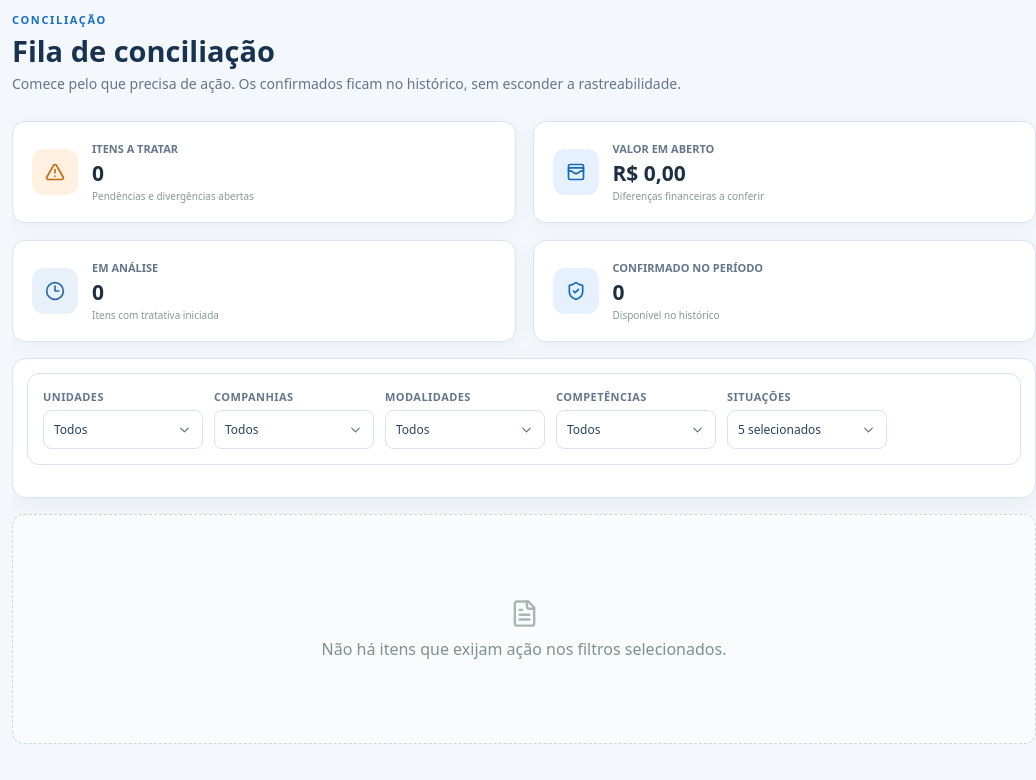
Test: reconciliation queue navigation › exposes detailed financial situations and loads the operational default set
Check: the heading "Fila de conciliação" is shown, box [12,31,275,70]
What coordinates should you click on to do the following:
click the button "5 selecionados"
I would click on:
 (807, 430)
Its box is [727,410,887,449].
(page scrolled)
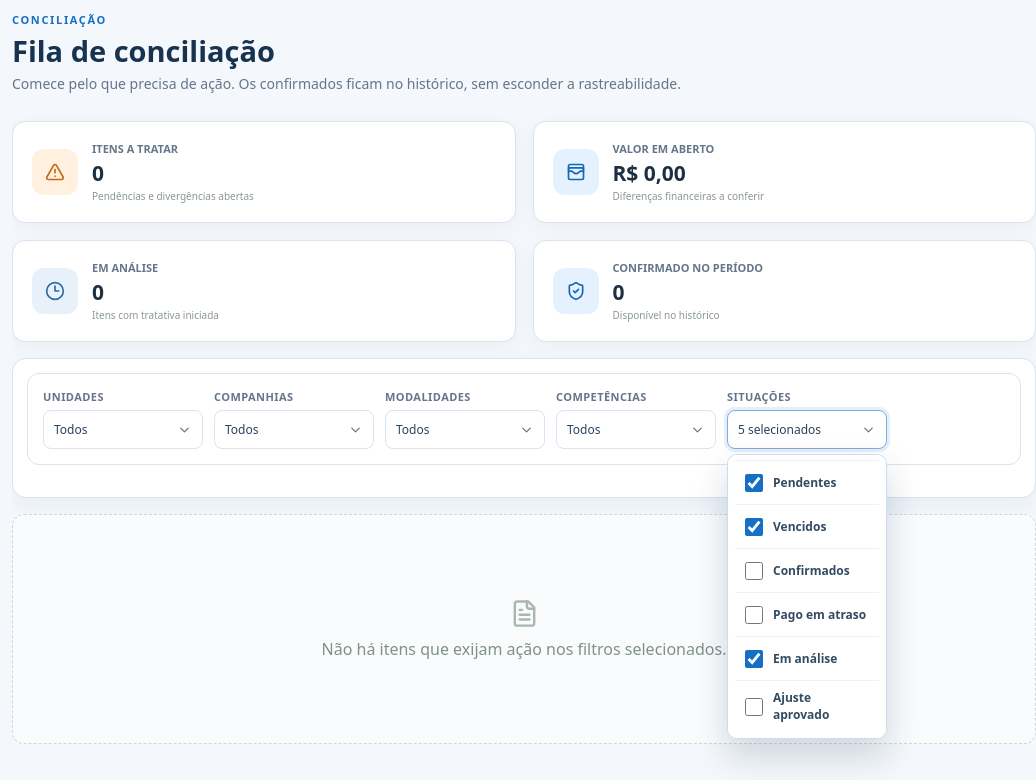
Check: the text "Pago em atraso" is shown, box [773,607,869,623]
Check: the text "Ajuste aprovado" is shown, box [773,689,829,722]
